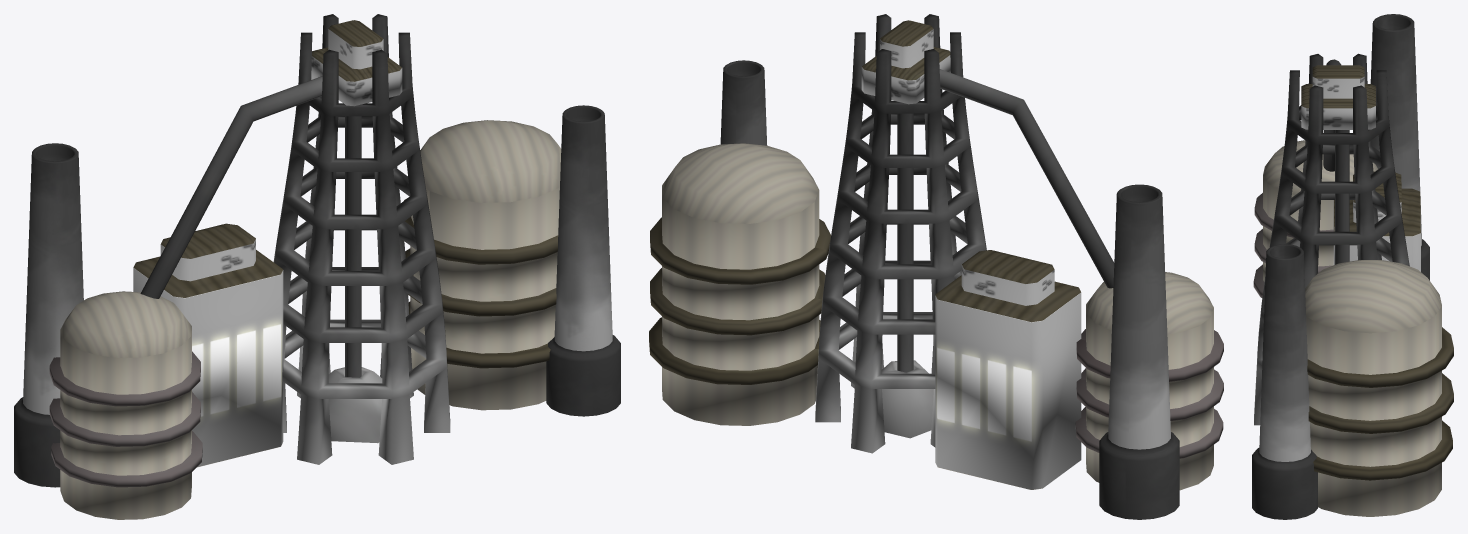
The model's file is building_3_01.FBX.
3 renders of one model, left to right at view 1: azimuth 30°, elevation 25°; view 2: azimuth 150°, elevation 25°; view 3: azimuth 270°, elevation 25°, orthographic. The views are drawn at different scales.
Parts seen in each view (by area): view 1: Tube001, Cylinder005, Cylinder004, Box003, Cylinder002, Cylinder001, Loft001, Box002, Cylinder007, Cylinder006; view 2: Cylinder005, Tube001, Box003, Cylinder001, Cylinder004, Loft001, Box002, Cylinder002, Cylinder007, Cylinder006; view 3: Cylinder005, Tube001, Cylinder002, Cylinder001, Cylinder004, Box002, Box003, Cylinder007, Loft001.
Boxes of the visible parts, left/top/right/bottom form: Tube001: left=273, top=14, right=450, bottom=464; Cylinder005: left=404, top=120, right=561, bottom=410; Cylinder004: left=49, top=291, right=202, bottom=519; Box003: left=133, top=223, right=283, bottom=467; Cylinder002: left=546, top=105, right=620, bottom=416; Cylinder001: left=14, top=143, right=83, bottom=487; Loft001: left=140, top=76, right=322, bottom=298; Box002: left=311, top=20, right=402, bottom=106; Cylinder007: left=345, top=116, right=361, bottom=377; Cylinder006: left=328, top=367, right=382, bottom=443; Cylinder005: left=649, top=143, right=830, bottom=425; Tube001: left=815, top=14, right=986, bottom=453; Box003: left=935, top=250, right=1081, bottom=489; Cylinder001: left=1099, top=184, right=1179, bottom=519; Cylinder004: left=1075, top=272, right=1223, bottom=490; Loft001: left=939, top=69, right=1114, bottom=288; Box002: left=861, top=20, right=950, bottom=104; Cylinder002: left=720, top=60, right=767, bottom=145; Cylinder007: left=897, top=113, right=913, bottom=372; Cylinder006: left=881, top=360, right=933, bottom=438; Cylinder005: left=1305, top=260, right=1453, bottom=516; Tube001: left=1254, top=53, right=1409, bottom=425; Cylinder002: left=1252, top=244, right=1317, bottom=519; Cylinder001: left=1370, top=14, right=1429, bottom=280; Cylinder004: left=1253, top=140, right=1378, bottom=297; Box002: left=1301, top=65, right=1375, bottom=129; Box003: left=1333, top=171, right=1420, bottom=271; Cylinder007: left=1335, top=130, right=1349, bottom=264; Loft001: left=1323, top=59, right=1341, bottom=171.
Size of the model in its own units: 118 by 82.25 by 42.85.
